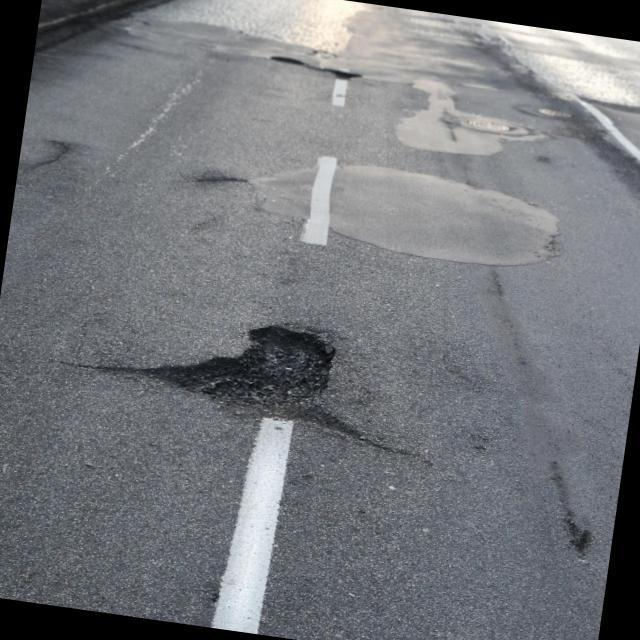Pothole: (162, 293, 374, 442), (265, 53, 362, 81)
